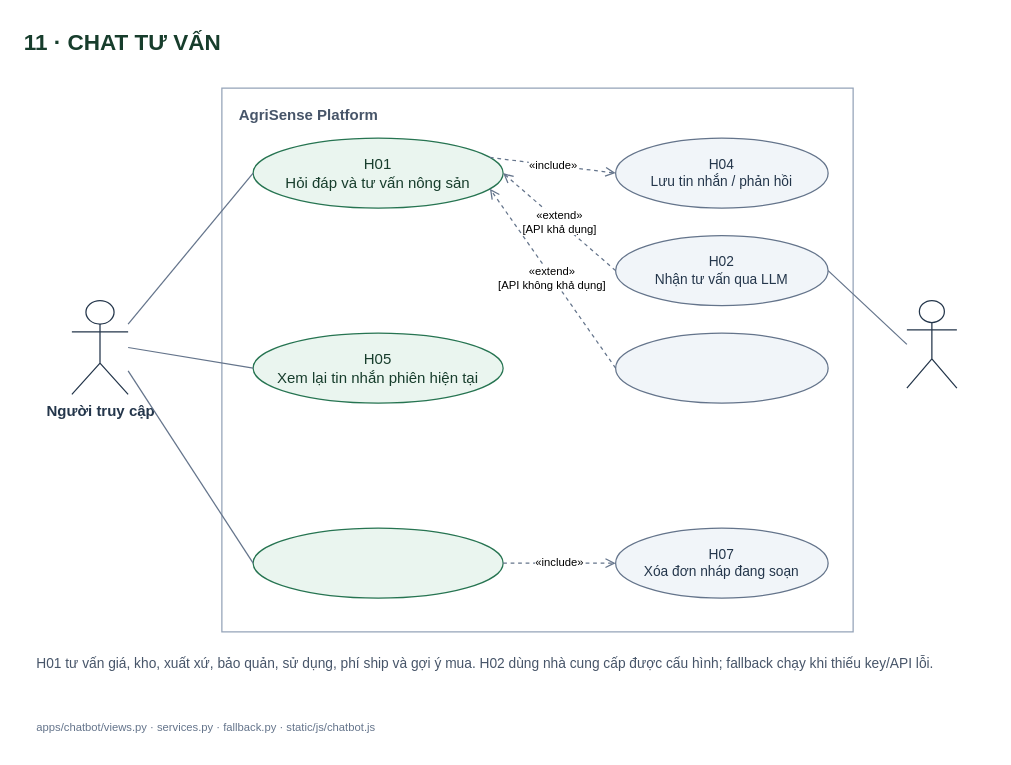
Some shapes in this 1011 by 765 pixel diagram are drawn without their labels. The centre of each missing label's shape, as x and y in pixels:
API LLM Gemini / Groq: pixel 931 343
H03 Nhận trả lời theo luật: pixel 721 367
H06 Xóa hội thoại, bắt đầu lại: pixel 377 562
